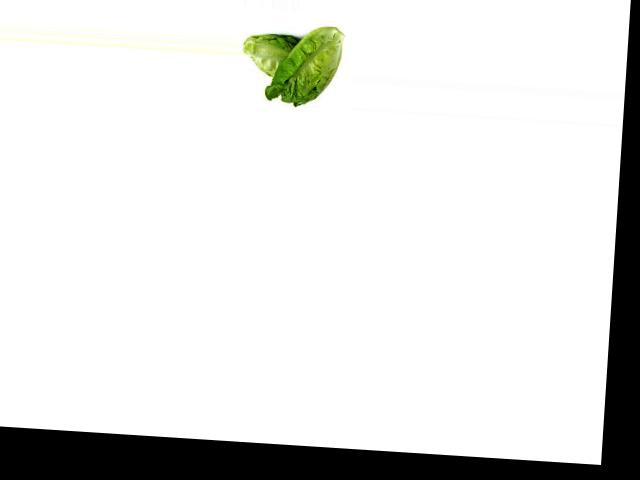lettuce: (239, 27, 301, 81)
